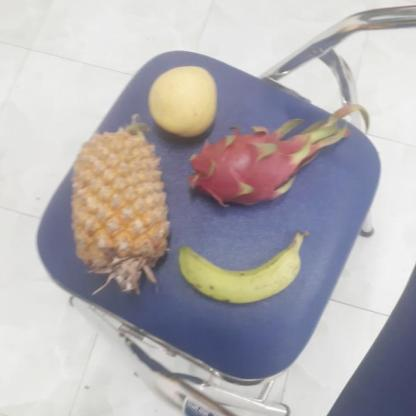banana: (181, 237, 308, 303)
pear: (146, 68, 220, 138)
pitaya: (189, 127, 309, 209)
